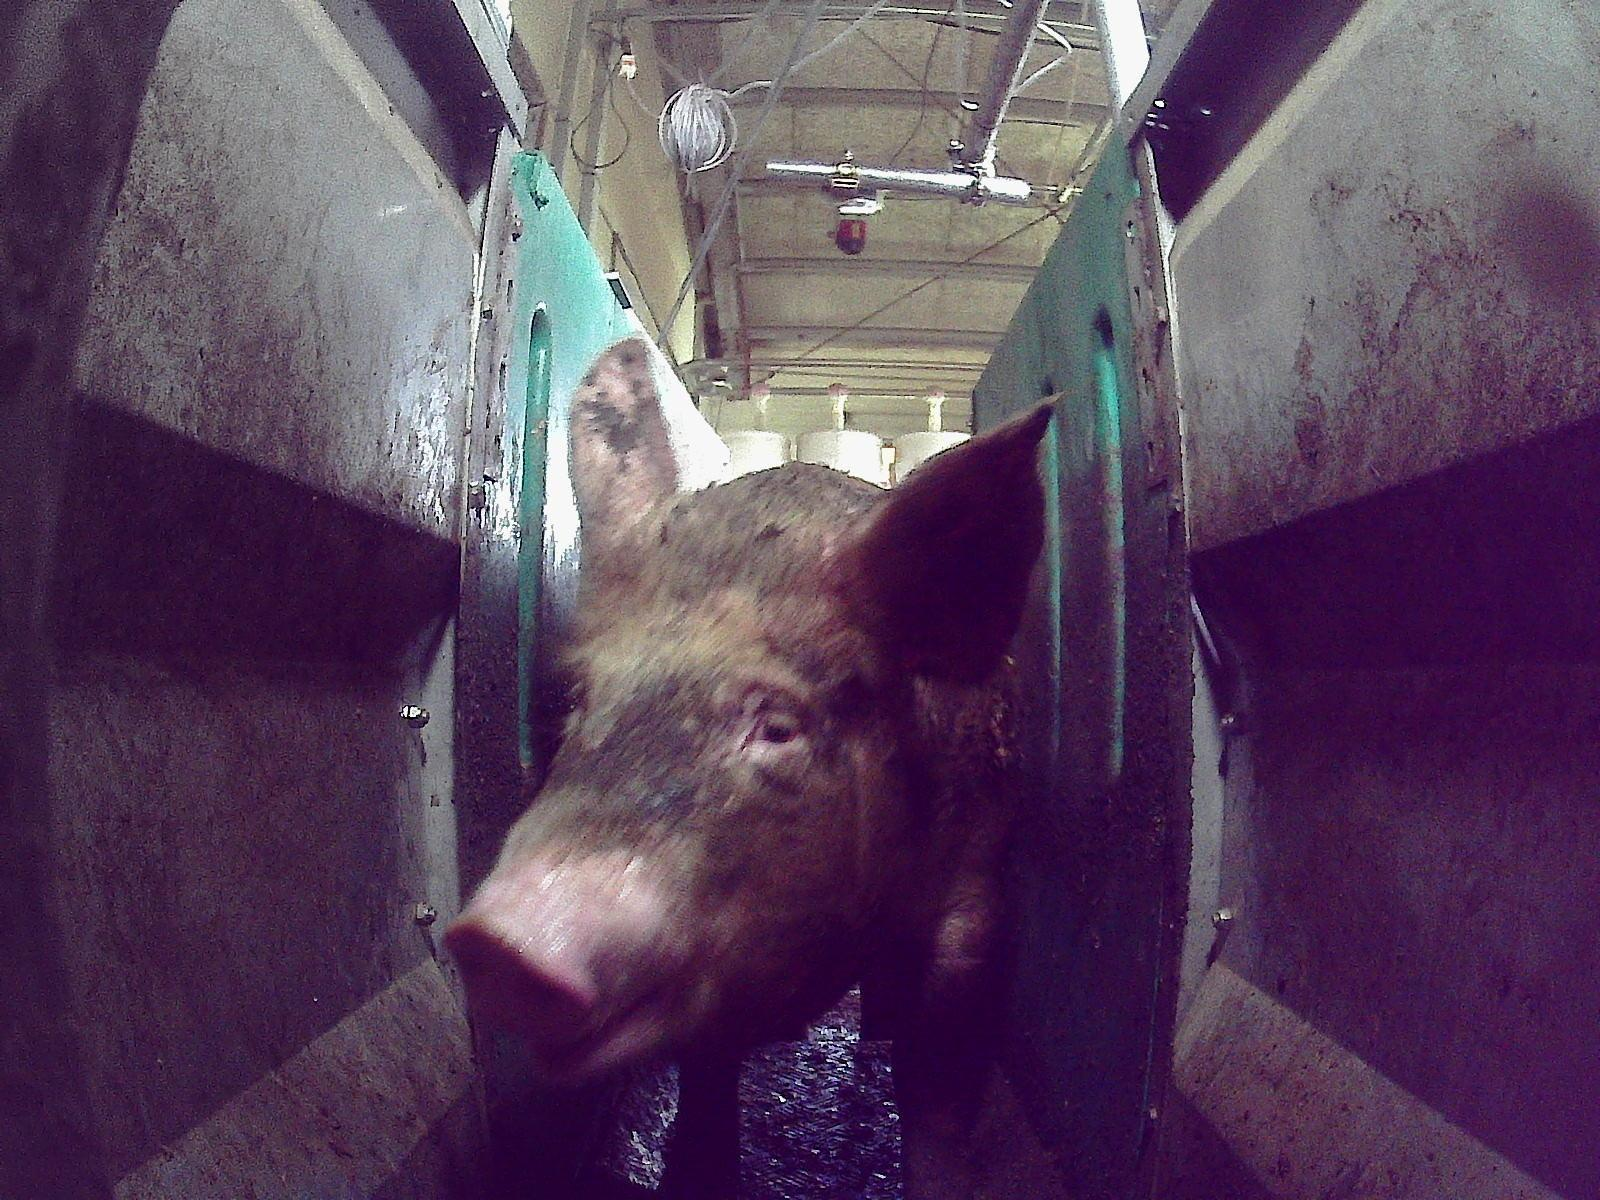Face: (436, 480, 902, 1082)
